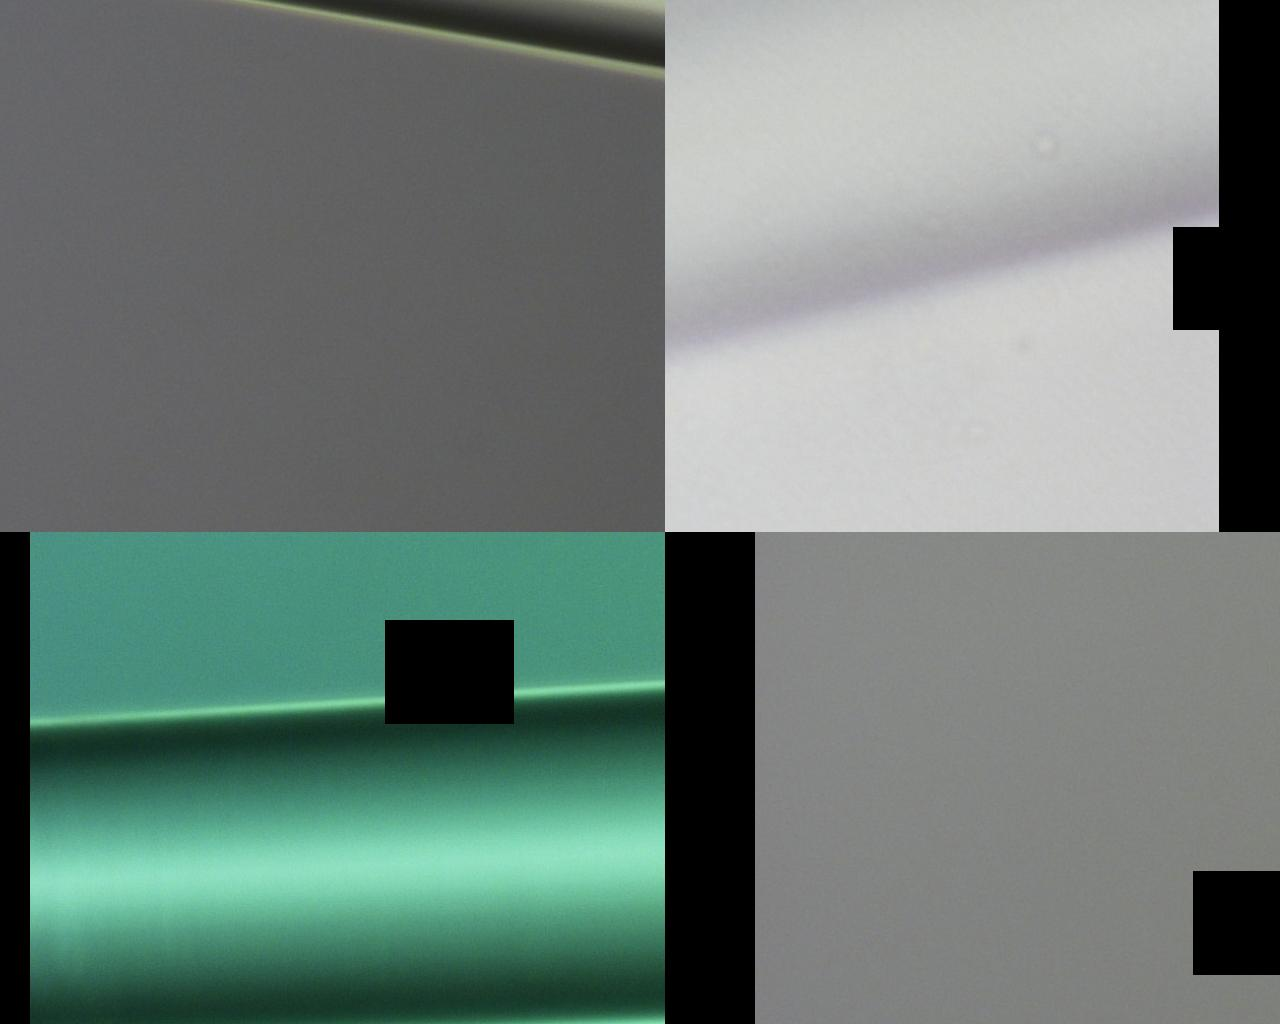fiber: (127, 356, 1151, 481)
